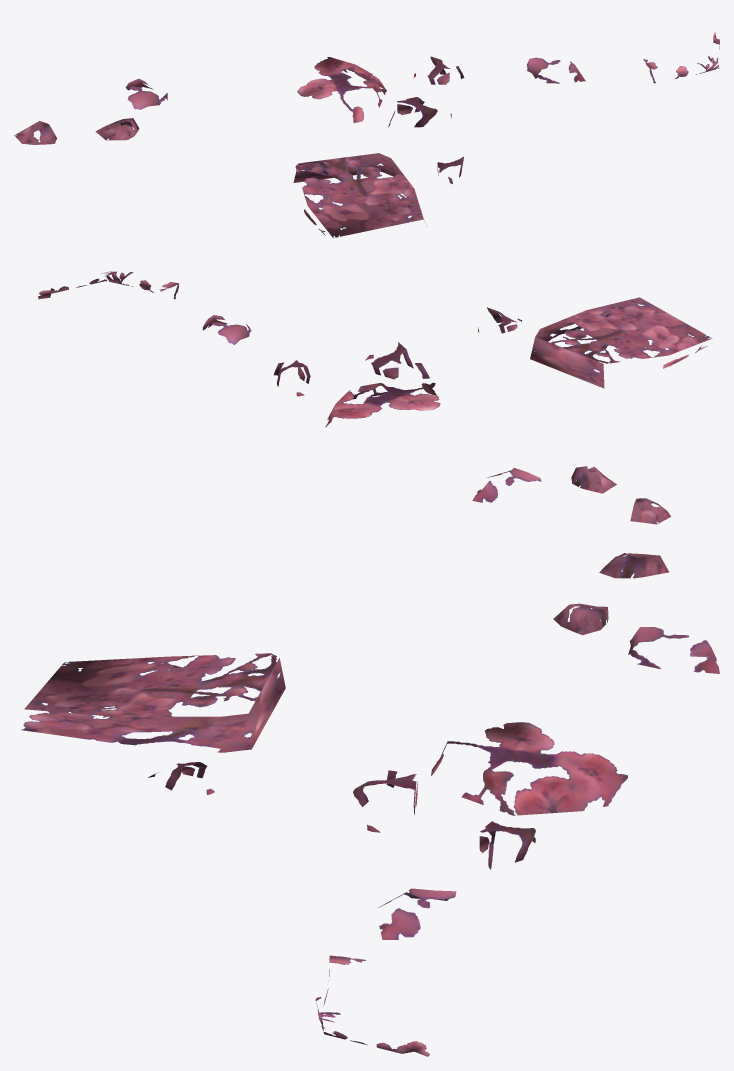
The model's file is environment_Tree_red_002_a_4.fbx.
The picture shows the model from 3 angles, top to bottom: view 1: azimuth 30°, elevation 25°; view 2: azimuth 150°, elevation 25°; view 3: azimuth 270°, elevation 25°; orthographic projection. The views are drawn at different scales.
Visible parts, largest first — view 1: polySurface136; view 2: polySurface136; view 3: polySurface136.
Part boxes in pixels (x1,y1,x2,y2): polySurface136: (14,32,719,237); polySurface136: (38,271,712,524); polySurface136: (21,553,719,1056).
Bounding box in the file's own units: 4.17 × 0.1346 × 2.5.
1 material, 1 textured.
